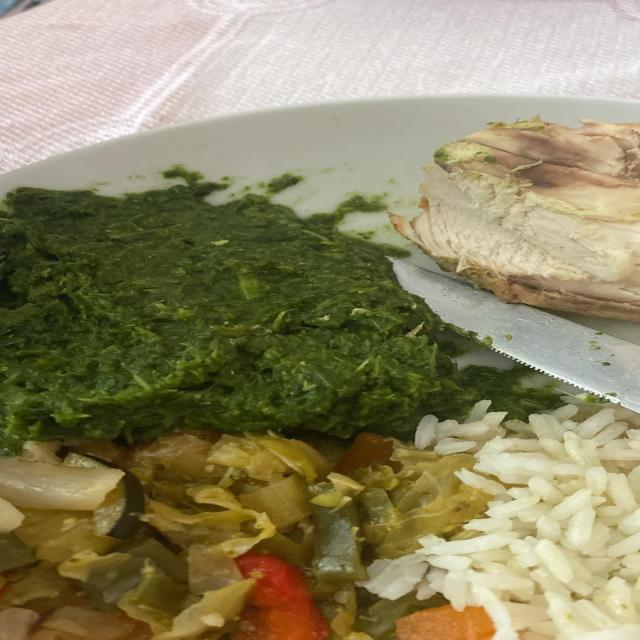chicken: (388, 118, 639, 322)
knife: (391, 259, 639, 411)
plate: (0, 97, 639, 640)
rice: (366, 401, 639, 640)
vegetables: (0, 170, 479, 450), (0, 434, 494, 640)
